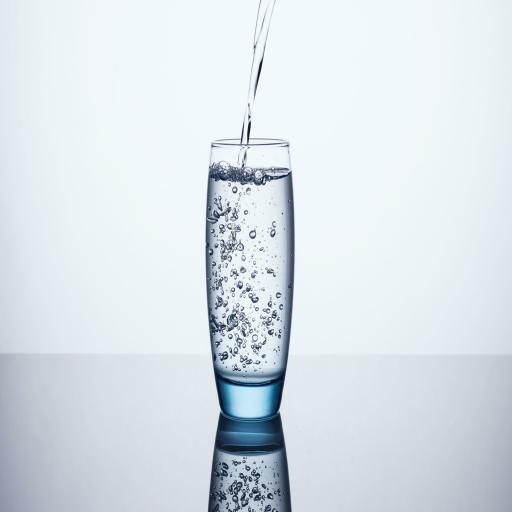cup: (204, 138, 294, 419)
